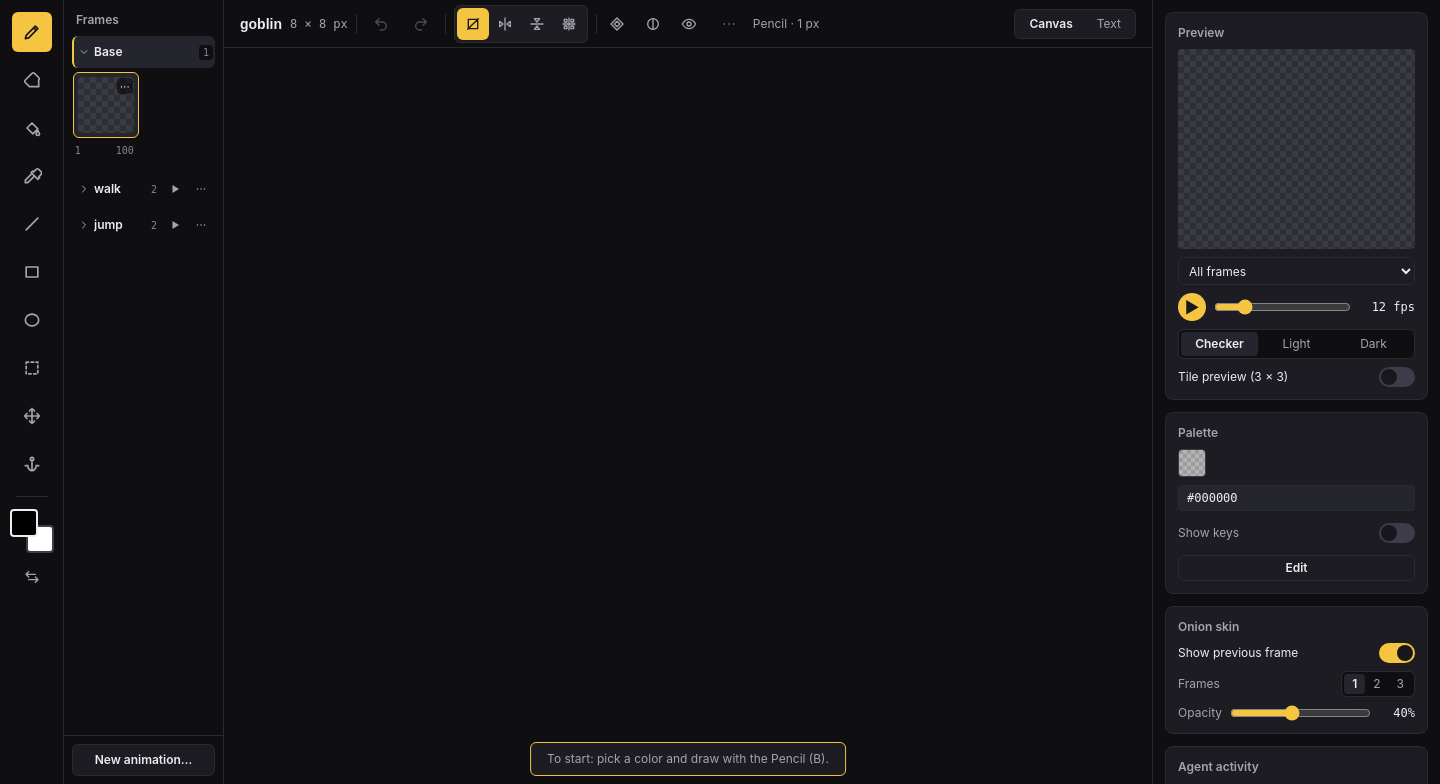
The menu of an animation › deletes only the animation
The width and height of the screenshot is (1440, 784).
Later steps or results of the test are not shown.
Click the button named "Menu of walk" at (201, 189), box x1=189 y1=177 x2=213 y2=201
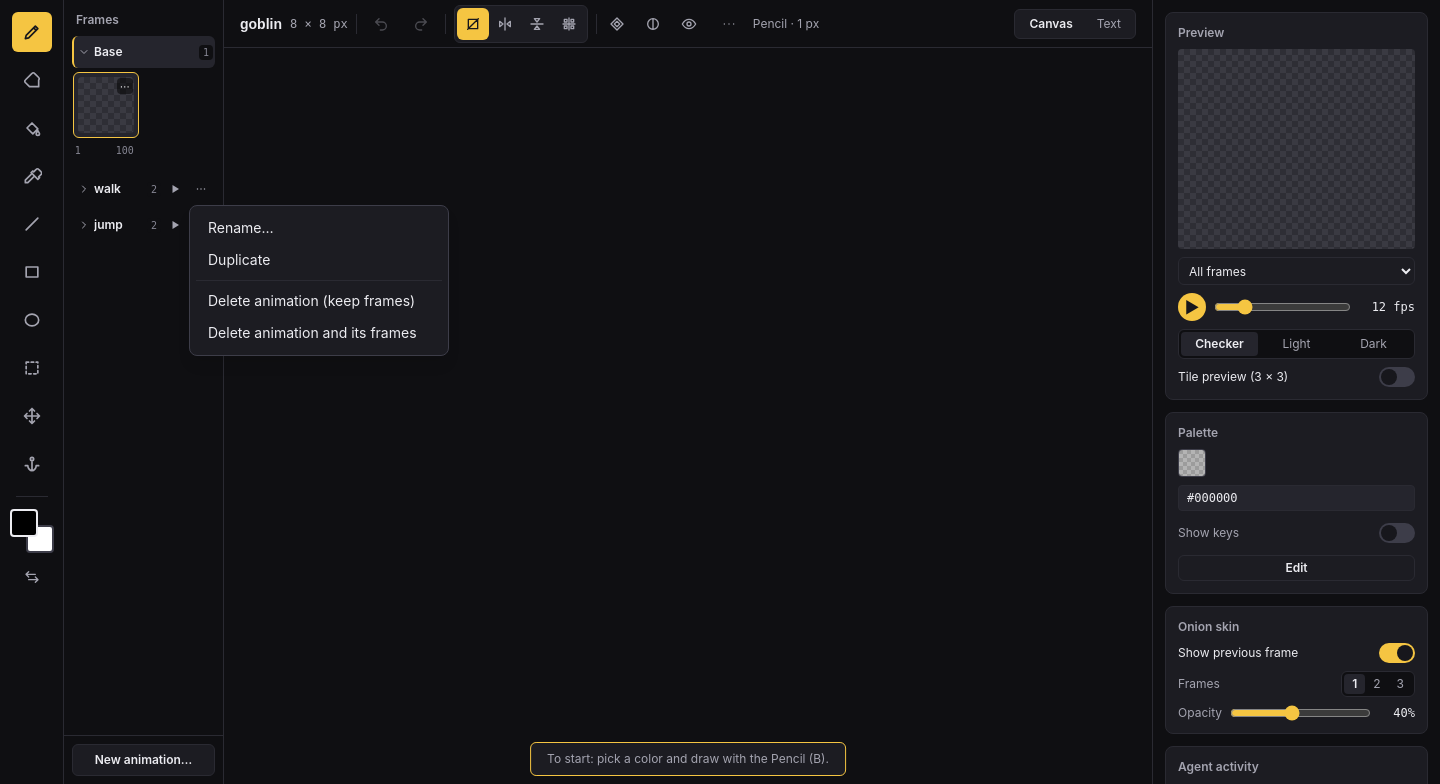
Click the menu item "Delete animation (keep frames)" at (319, 301), box x1=196 y1=285 x2=442 y2=317
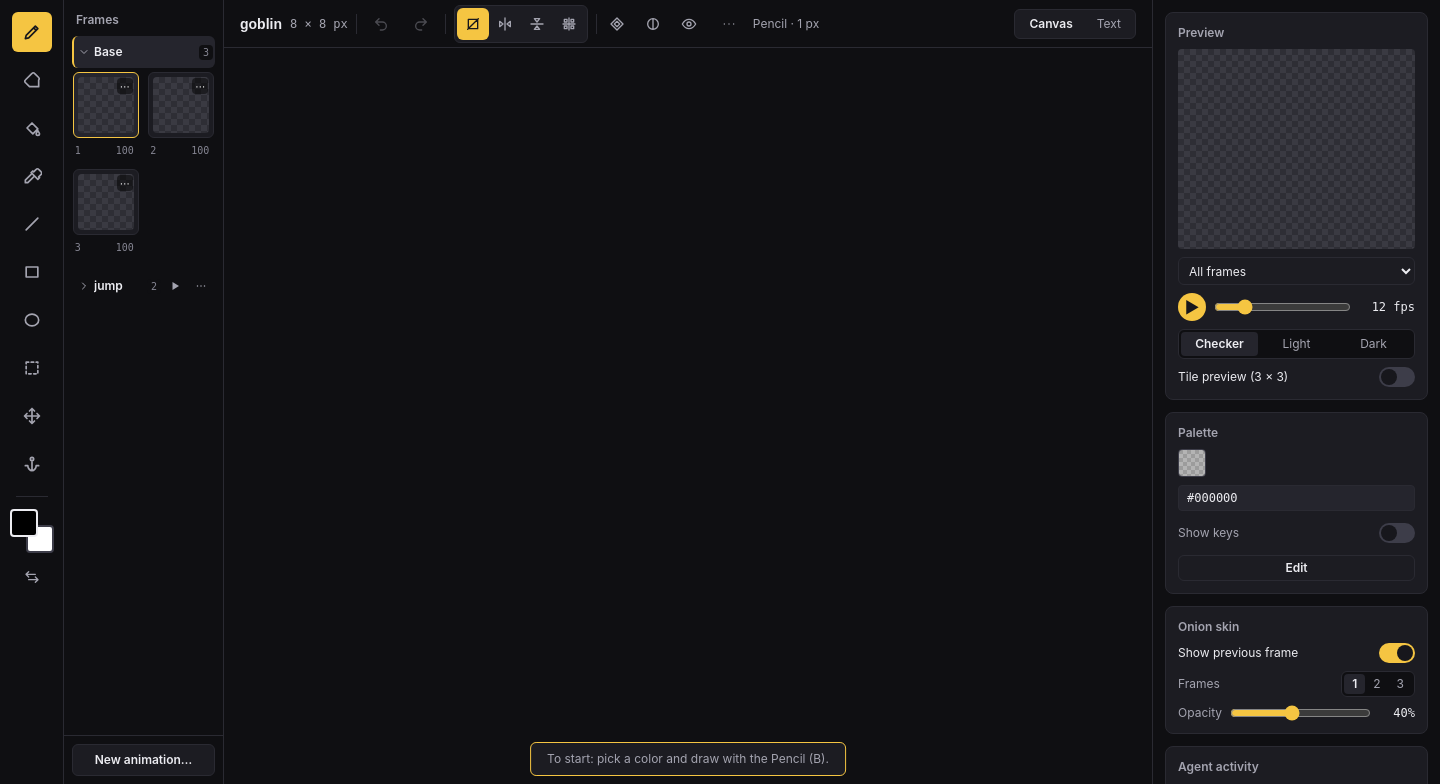
Expected: the button "walk" is gone
